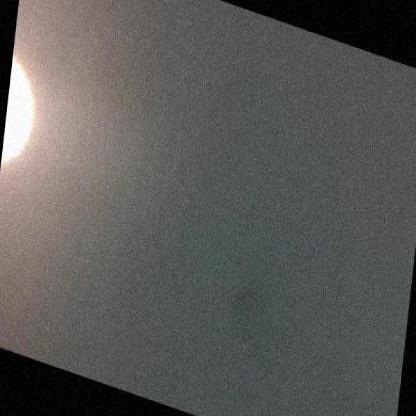light_on: (0, 41, 46, 194)
